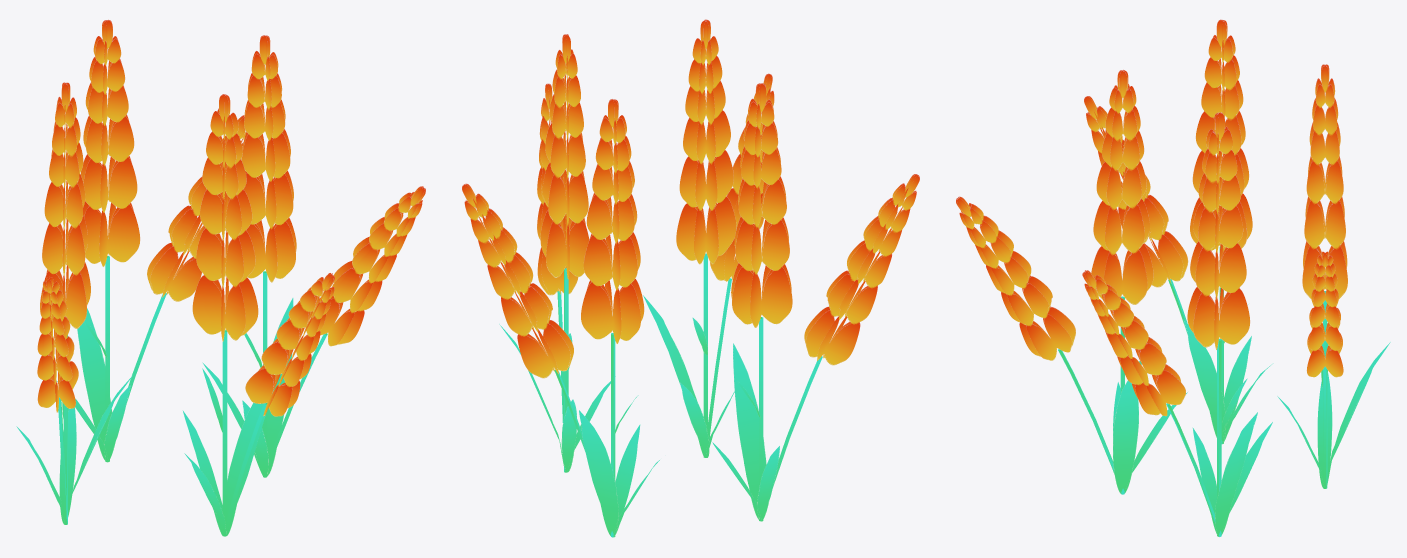
Rendered from Flowers_n03_08.fbx.
3 views of the same model, side by side, from view 1: azimuth 30°, elevation 25°; view 2: azimuth 150°, elevation 25°; view 3: azimuth 270°, elevation 25° (orthographic). The views are drawn at different scales.
Parts seen in each view (by area): view 1: polySurface493; view 2: polySurface493; view 3: polySurface493.
Boxes of the visible parts, x1,y1,x2,y2 form: polySurface493: (16,19,425,536); polySurface493: (462,19,919,537); polySurface493: (956,19,1390,537).
Size of the model in its own units: 79.37 by 89.64 by 82.28.
1 material, 1 textured.
